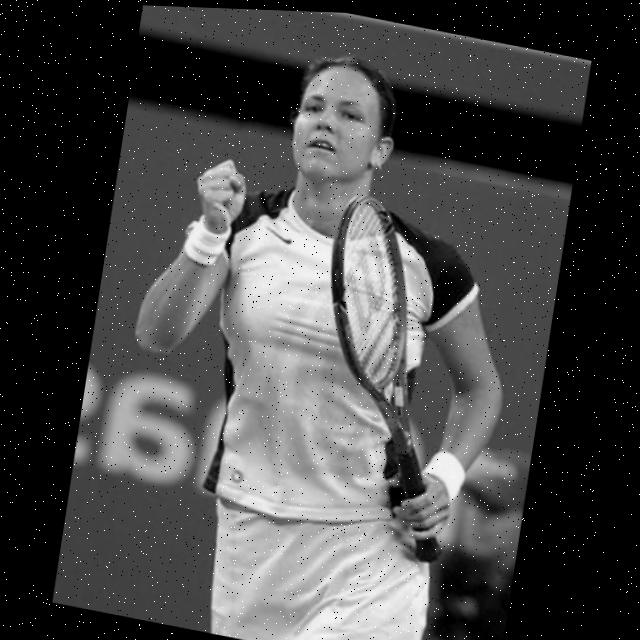face: (274, 34, 400, 205)
